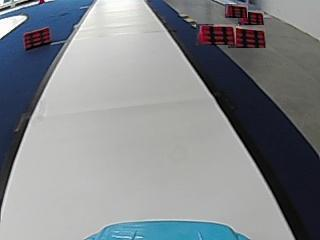bomb: (23, 25, 51, 49)
